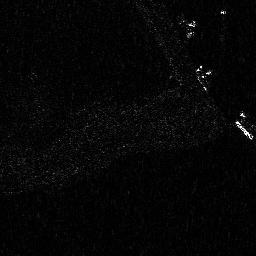ship: (234, 112, 255, 138)
